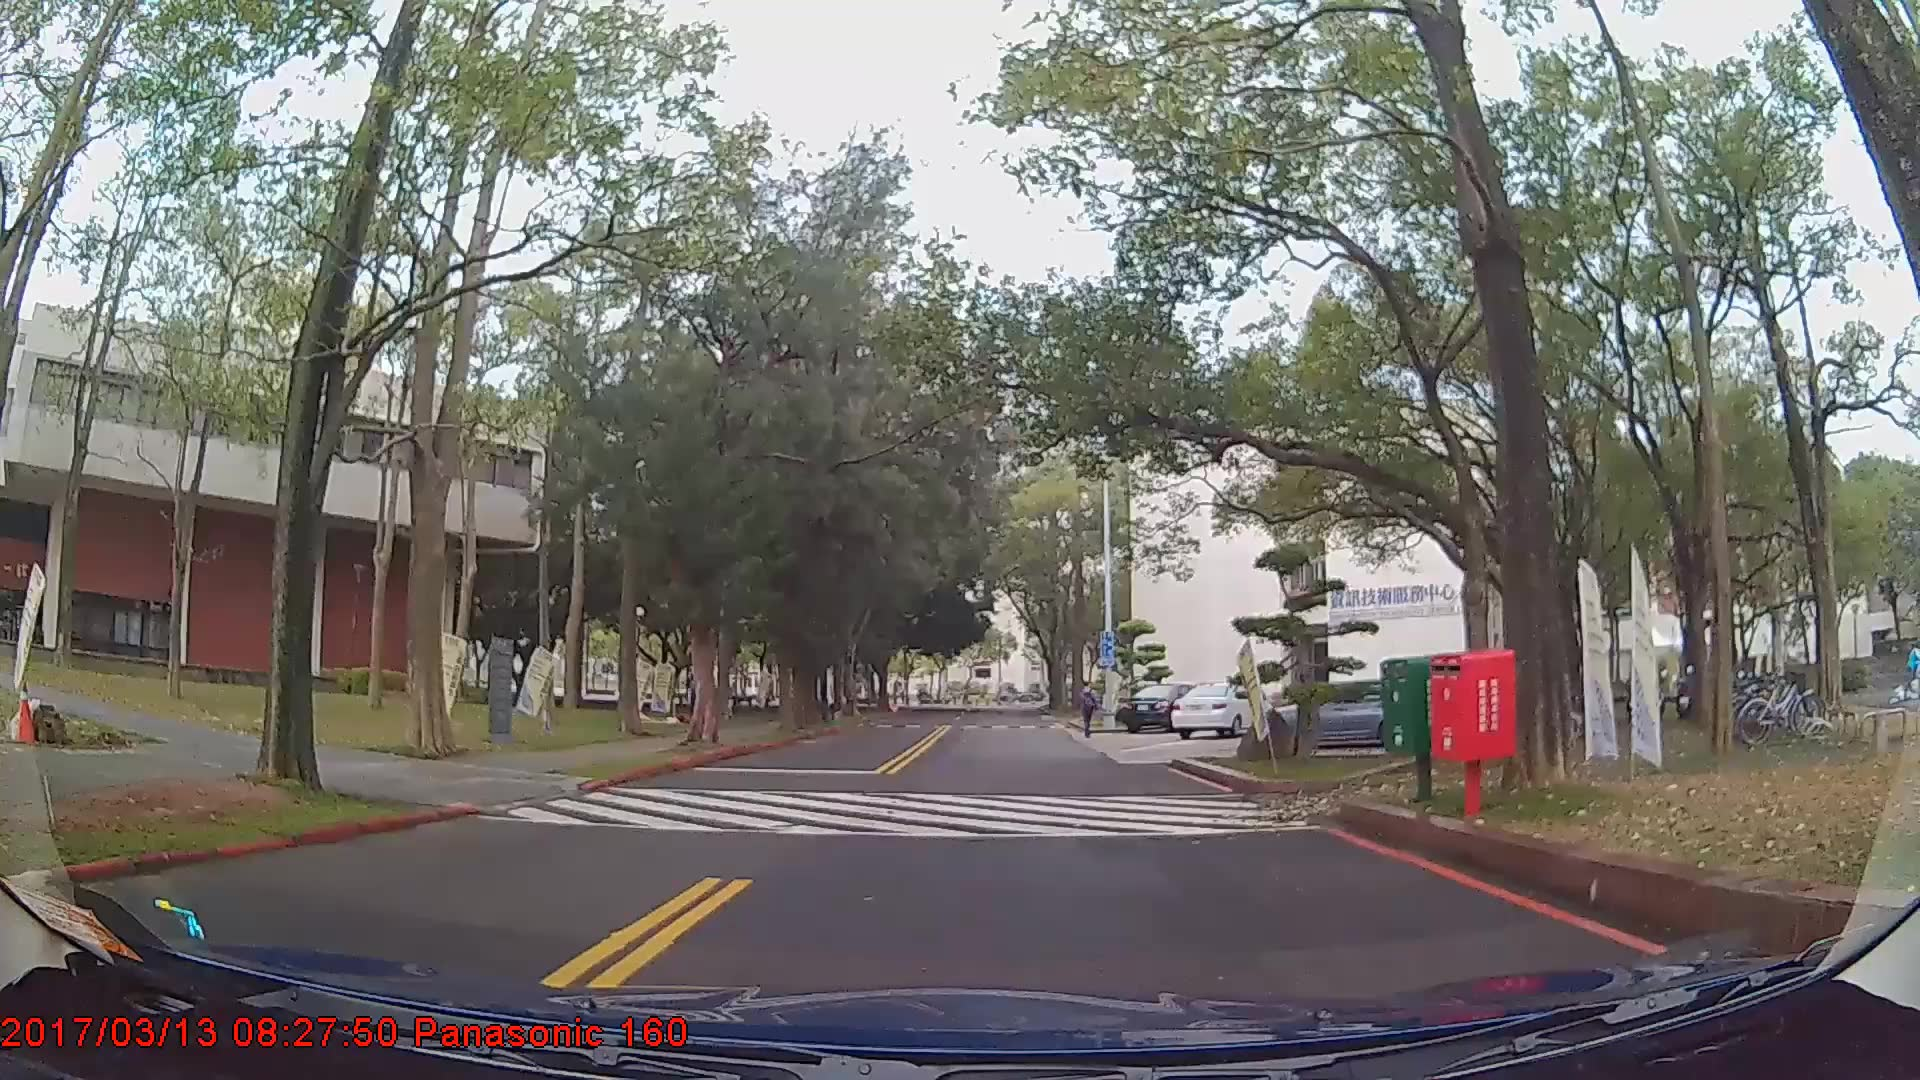pedestrian: (1074, 681, 1100, 743)
vehicle: (1171, 678, 1266, 738), (1114, 683, 1207, 734)
